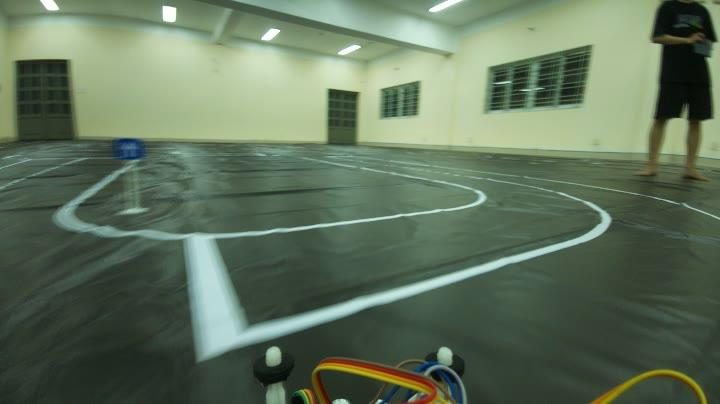onewayroad: (104, 132, 144, 164)
